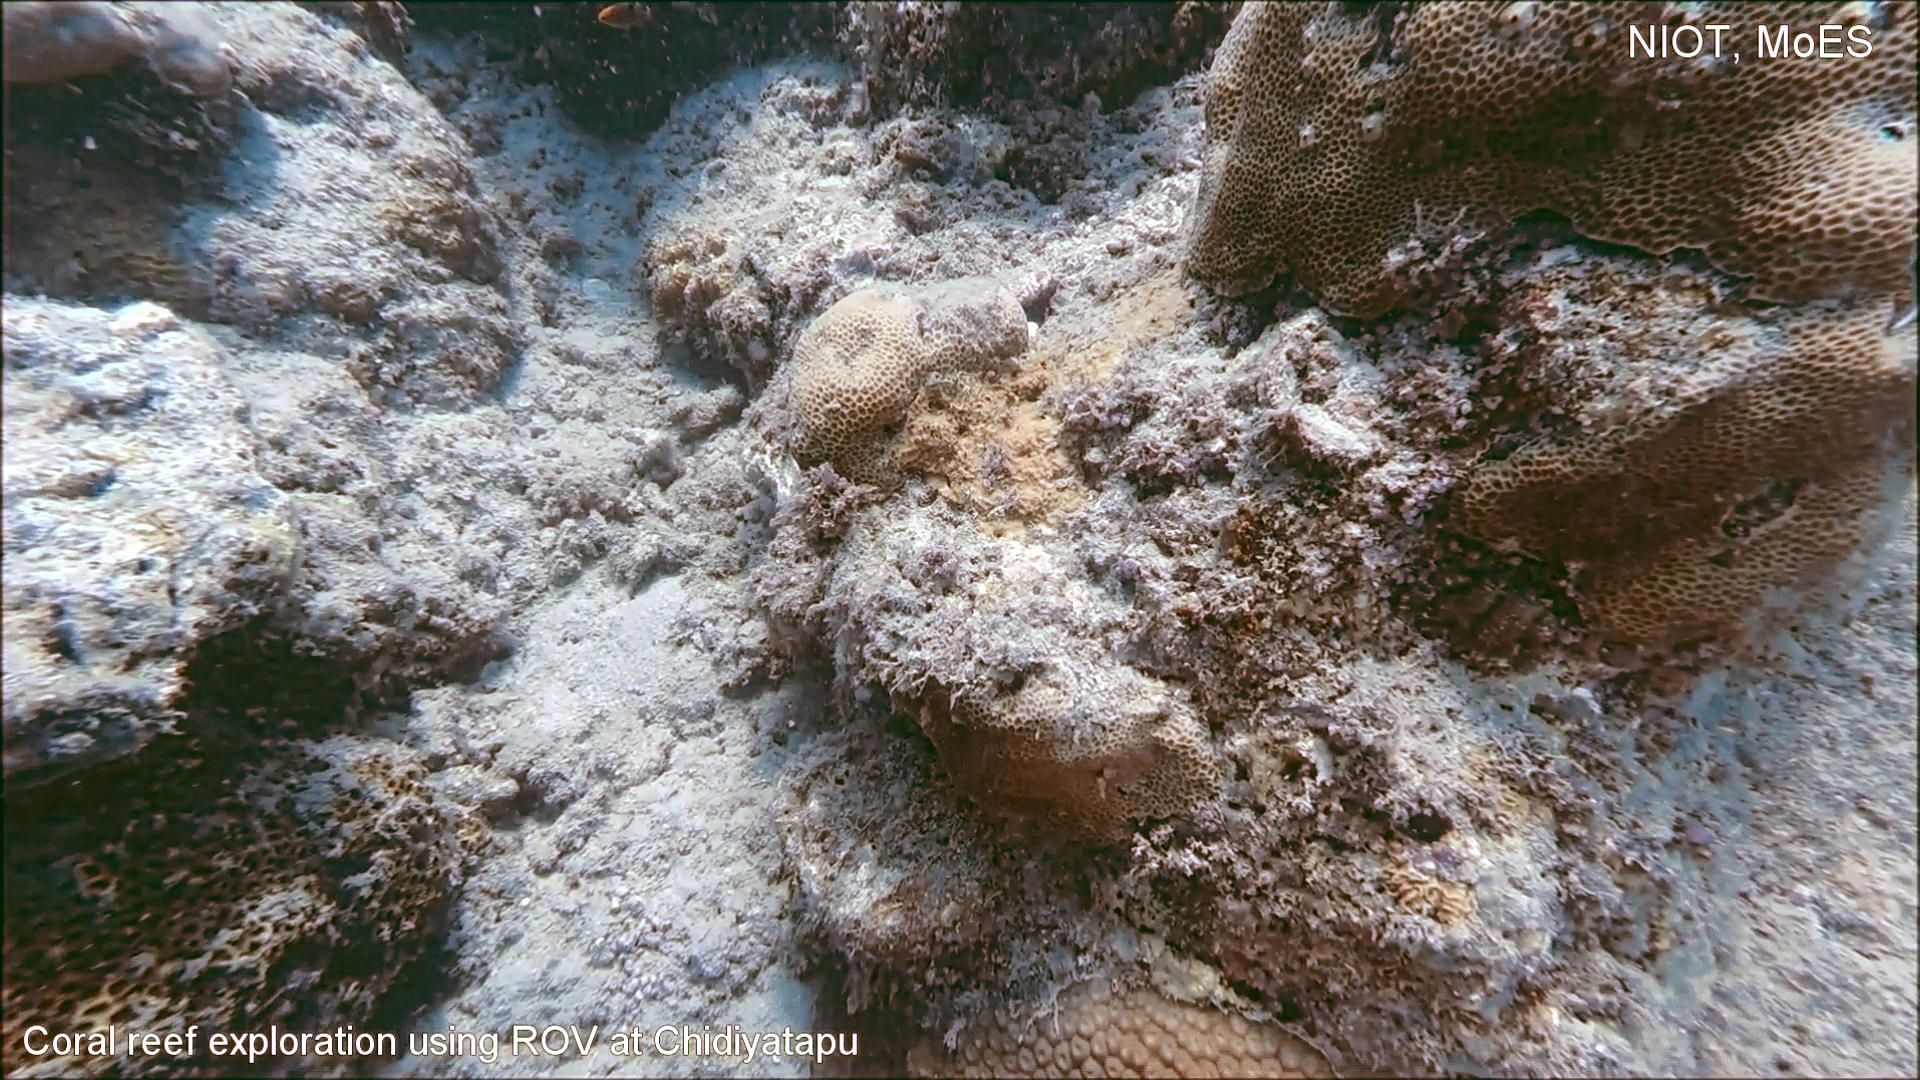Montastraea: (800, 960, 1337, 1080)
